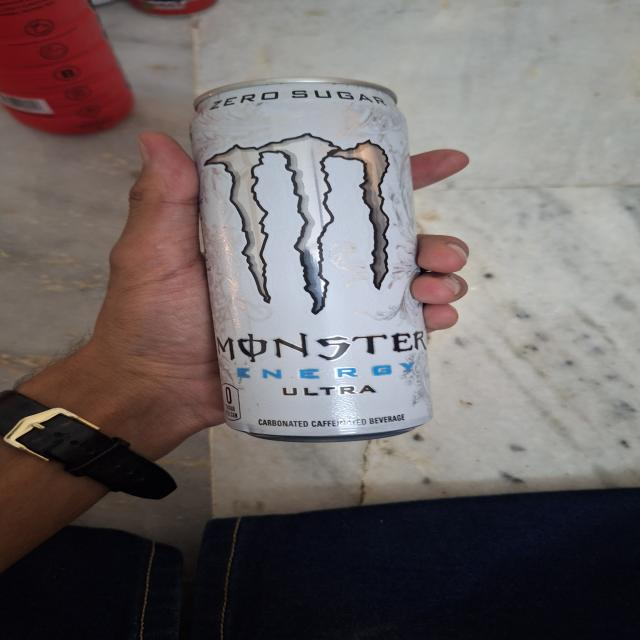White Monster: (170, 45, 457, 458)
